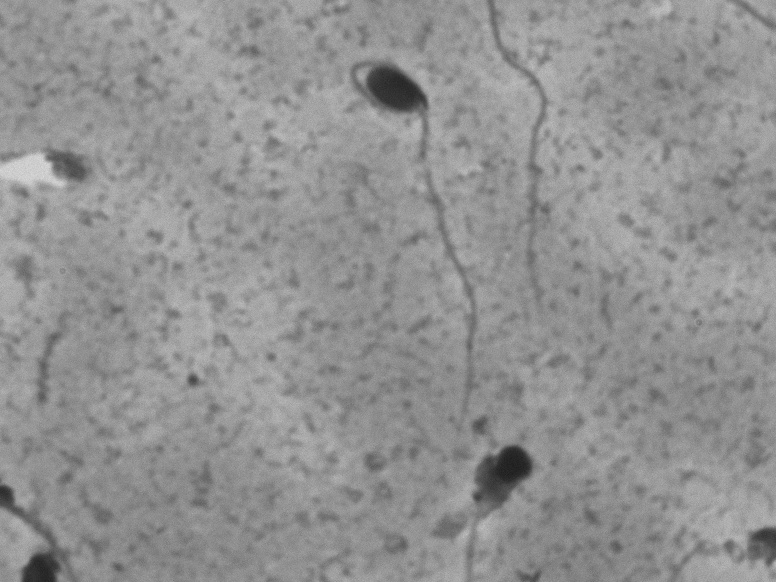Abnormal: (329, 31, 491, 429)
